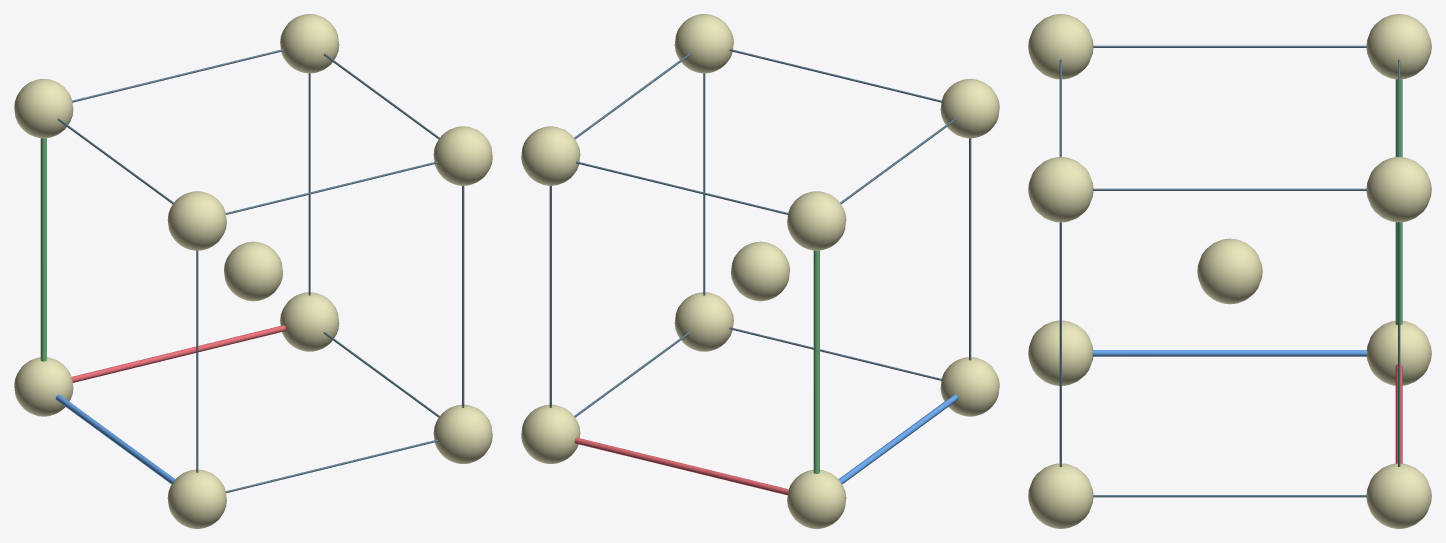
File: nguyen-to-nb.glb
The picture shows the model from 3 angles, left to right: view 1: azimuth 30°, elevation 25°; view 2: azimuth 150°, elevation 25°; view 3: azimuth 270°, elevation 25°; orthographic projection. The views are drawn at different scales.
Visible parts, largest first — view 1: Nb · Nb · 1 (×9), Ô mạng và các trục a, b, c; view 2: Nb · Nb · 1 (×9), Ô mạng và các trục a, b, c; view 3: Nb · Nb · 1 (×9), Ô mạng và các trục a, b, c.
Boxes of the visible parts, x1,y1,x2,y2 form: Nb · Nb · 1 (×9): (14, 14, 492, 528); Ô mạng và các trục a, b, c: (40, 49, 464, 493); Nb · Nb · 1 (×9): (521, 14, 999, 528); Ô mạng và các trục a, b, c: (549, 49, 971, 495); Nb · Nb · 1 (×9): (1028, 14, 1431, 528); Ô mạng và các trục a, b, c: (1059, 45, 1402, 497).
Bounding box in the file's own units: 3.94 × 3.94 × 3.94.
